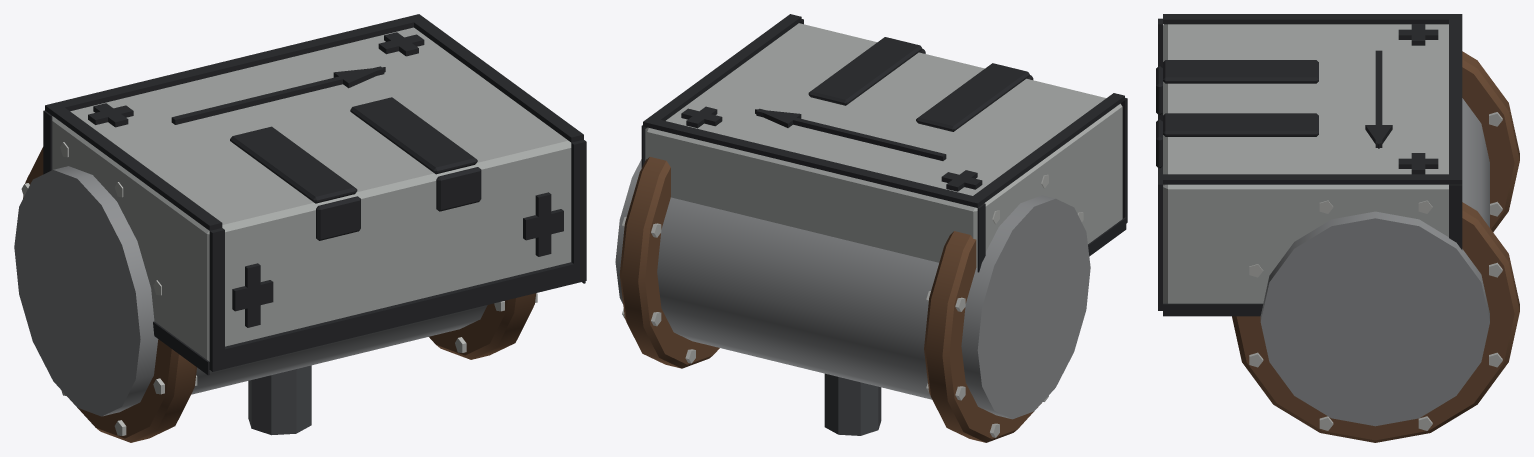
File: one-way-valve-east.glb
3 views of the same model, side by side, from view 1: azimuth 30°, elevation 25°; view 2: azimuth 150°, elevation 25°; view 3: azimuth 270°, elevation 25° (orthographic). The views are drawn at different scales.
Visible parts, largest first — view 1: body; view 2: body; view 3: body.
Part boxes in pixels (<box>): body: <box>14,14,586,442</box>; body: <box>615,14,1127,442</box>; body: <box>1156,14,1519,442</box>.
Bounding box in the file's own units: 1 × 0.776 × 0.856.
